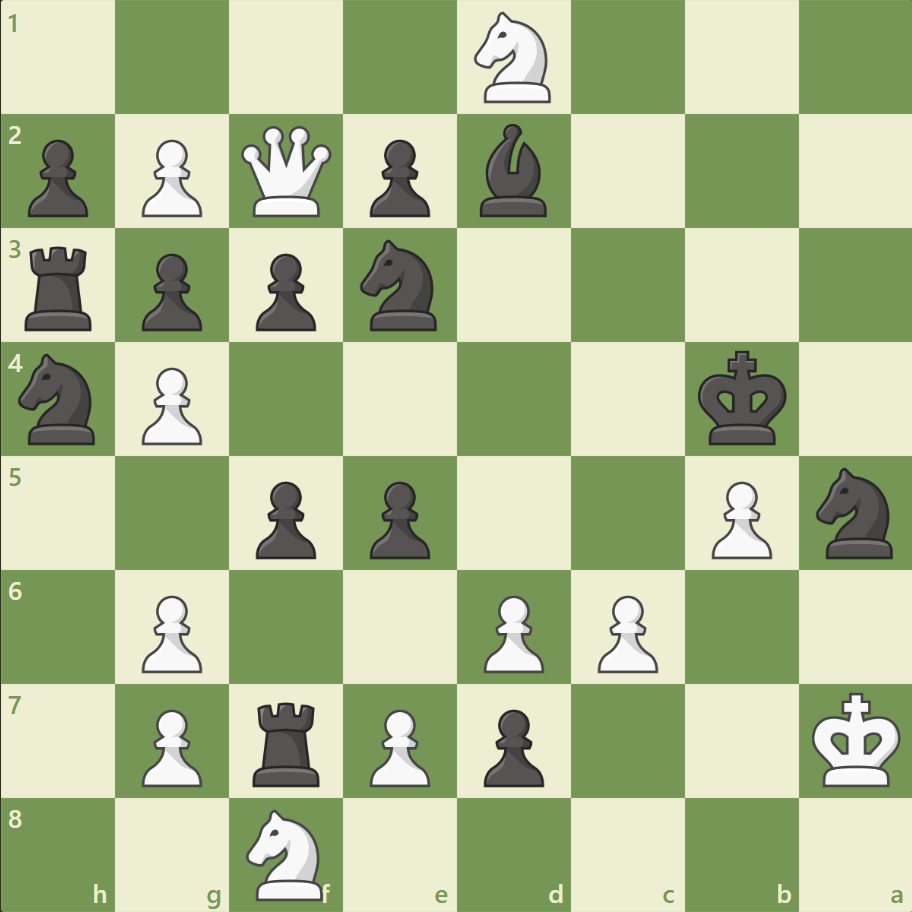K: (806, 685, 906, 793)
N: (465, 7, 562, 110), (238, 802, 335, 904)
P: (133, 700, 208, 791), (474, 586, 549, 677), (133, 586, 208, 677), (701, 473, 776, 564), (133, 359, 208, 450), (133, 132, 208, 223), (361, 700, 435, 791), (588, 586, 662, 677)
Q: (237, 122, 336, 222)
b: (471, 120, 555, 222)
k: (692, 344, 792, 452)
n: (351, 234, 449, 337), (806, 461, 903, 564), (11, 348, 108, 450)
p: (474, 700, 549, 791), (247, 473, 322, 564), (247, 246, 322, 337), (133, 246, 208, 337), (20, 132, 95, 223), (361, 473, 435, 564), (361, 132, 435, 223)
r: (246, 693, 329, 790), (19, 239, 102, 336)
